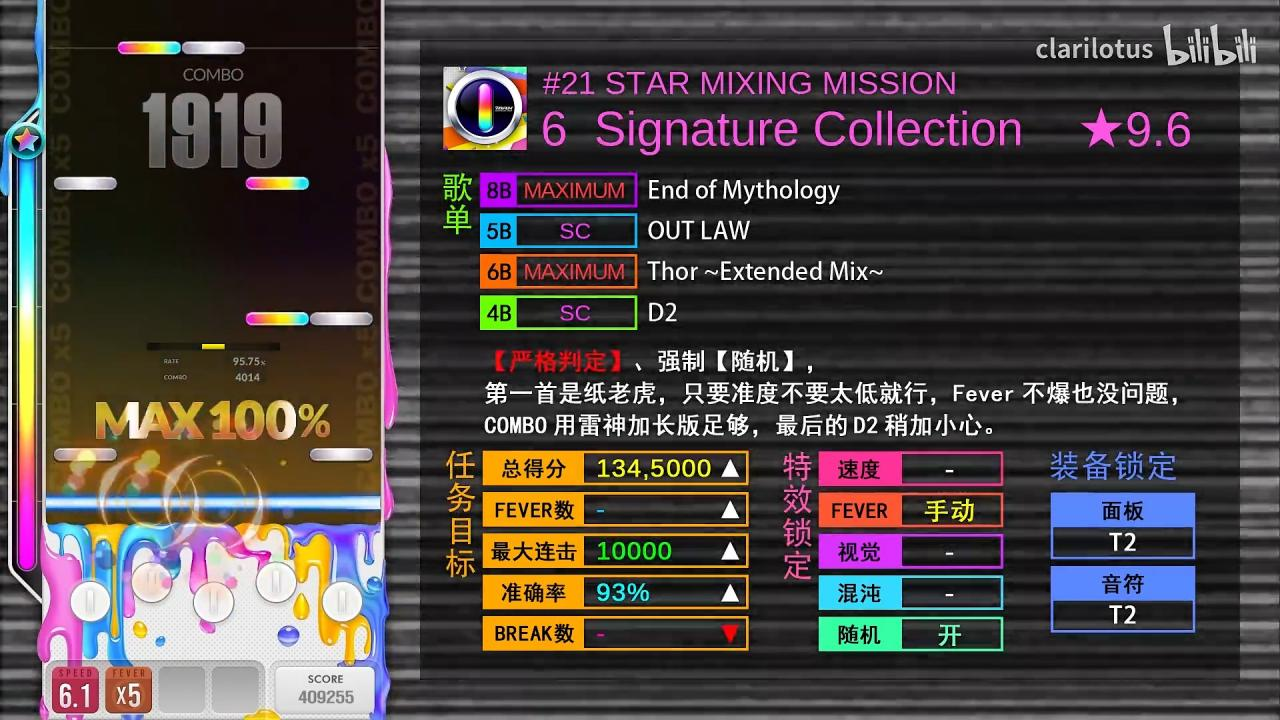note: (309, 447, 373, 463), (53, 447, 118, 462), (118, 41, 181, 55), (246, 312, 309, 326), (183, 41, 245, 55), (55, 176, 117, 190), (310, 312, 372, 326), (245, 177, 310, 190)
